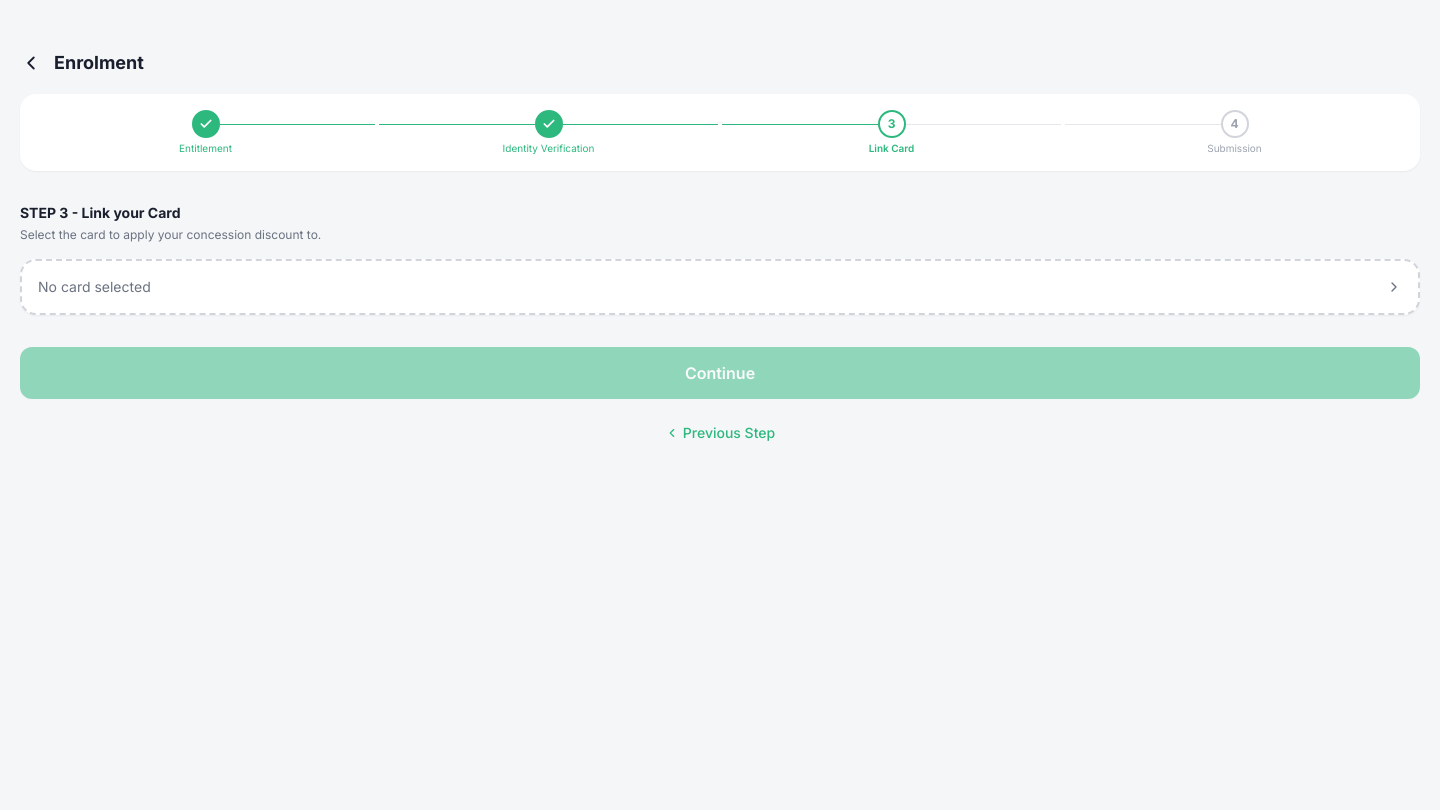
Scenario: EnrolmentStep3Page › completing "Add a new card" form and confirming closes modal and shows card as selected
The width and height of the screenshot is (1440, 810).
Click the button with aria-label "select card" at [94, 286], box [20,258,1420,314]
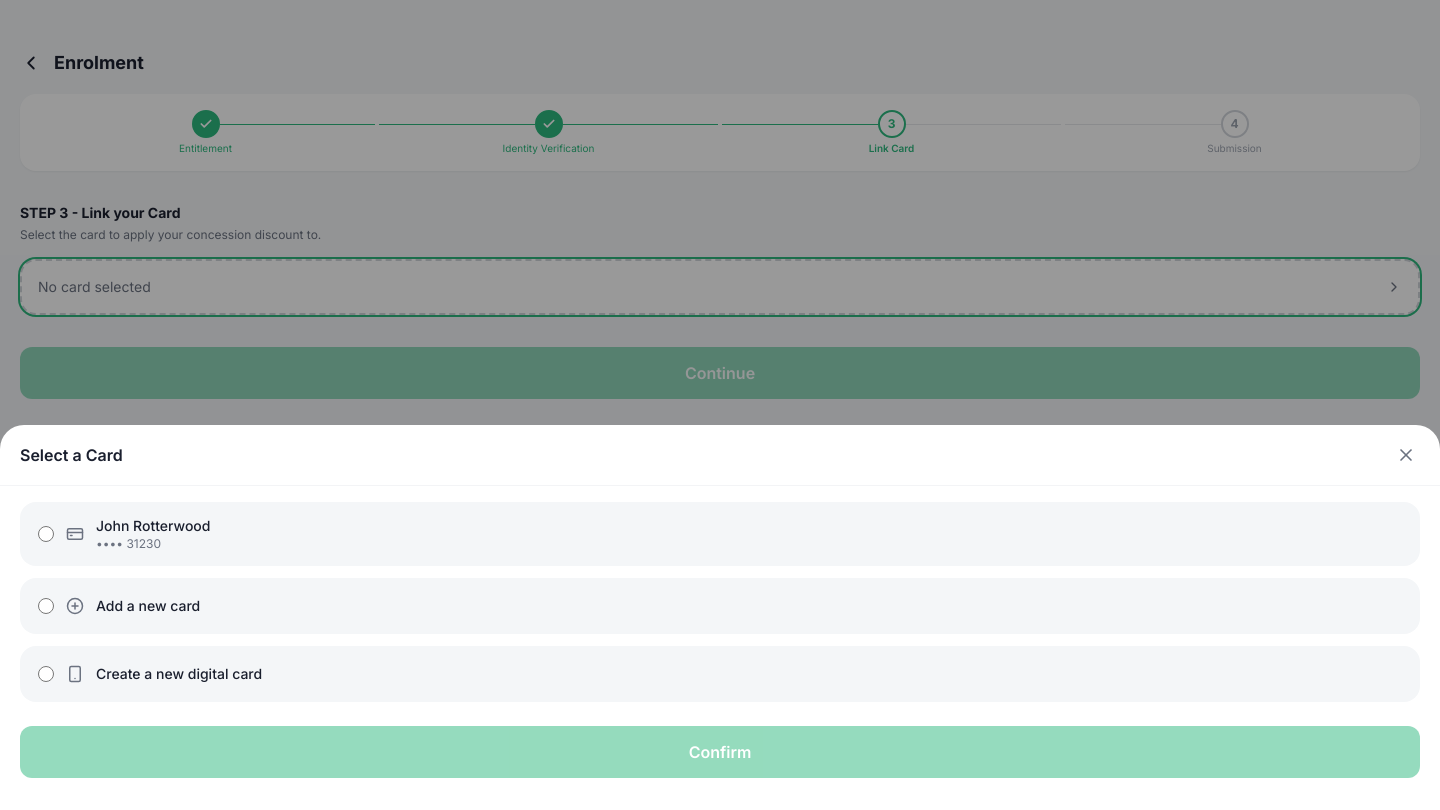
Click the radio button labelled "Add a new card" at [46, 606], box [38,598,54,614]
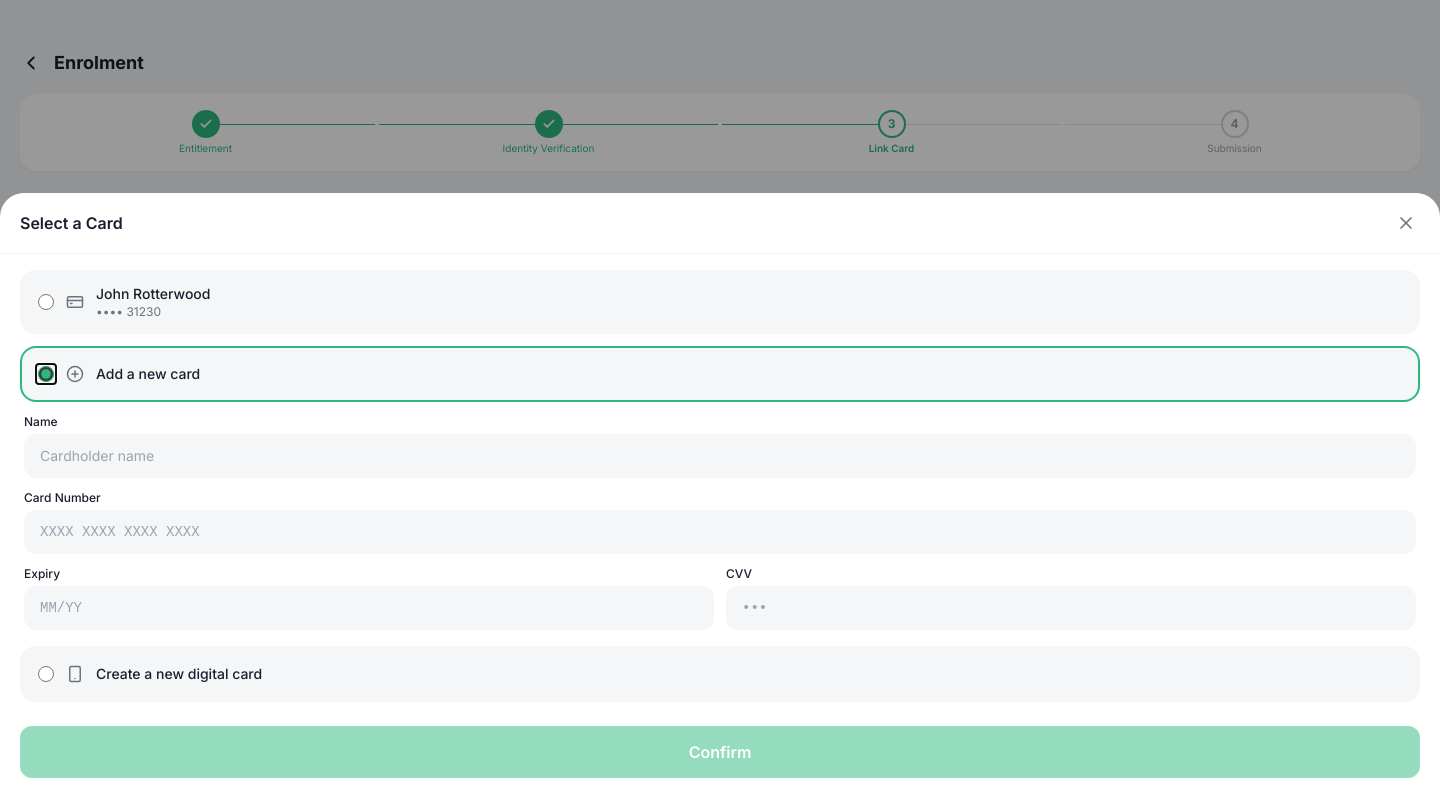
Type "Jane Smith" into the field labelled "Name" at [720, 456], box [24,434,1416,478]
Type "4111111111111111" into the field labelled "Card Number" at [720, 532], box [24,510,1416,554]
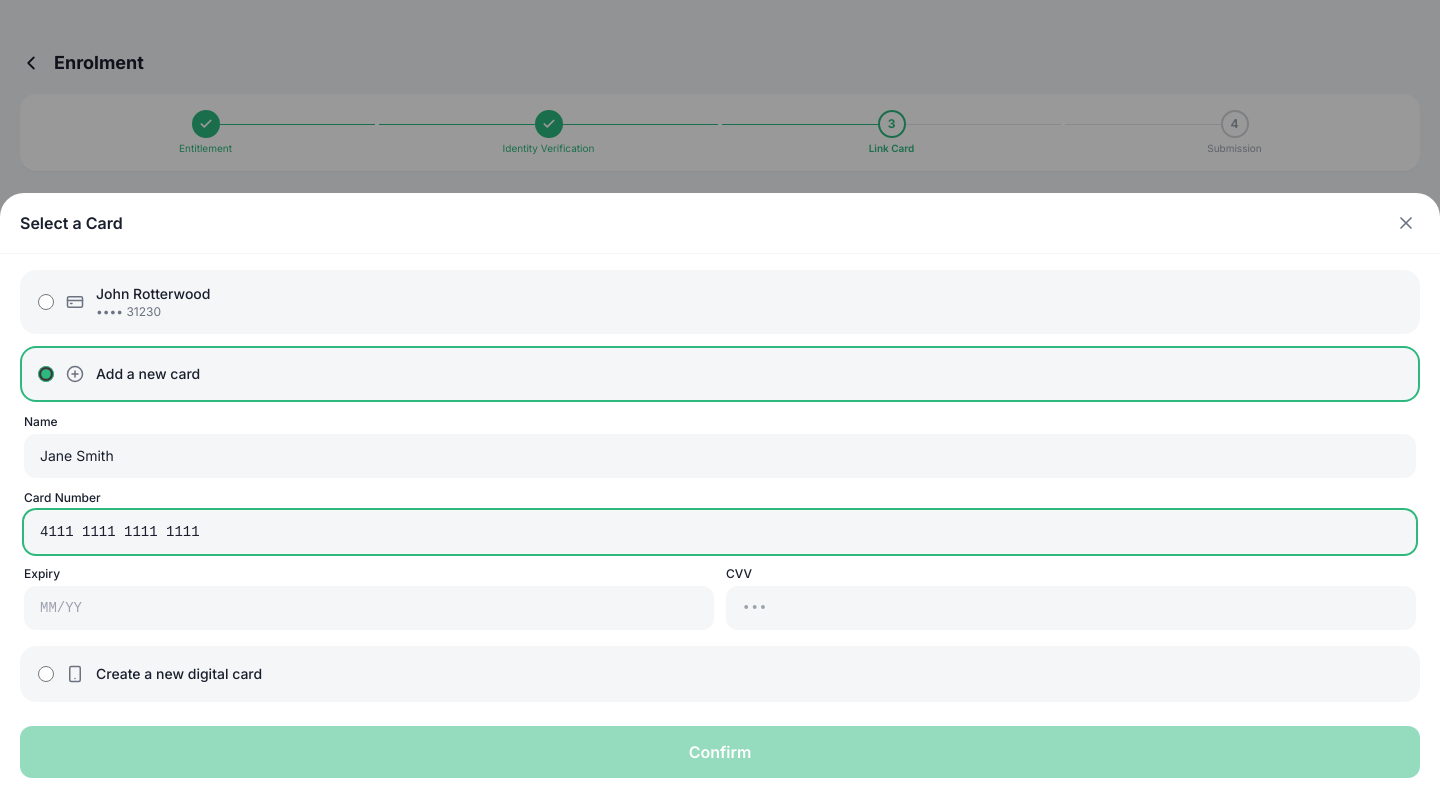
Type "1228" into the field labelled "Expiry" at [369, 608], box [24,586,714,630]
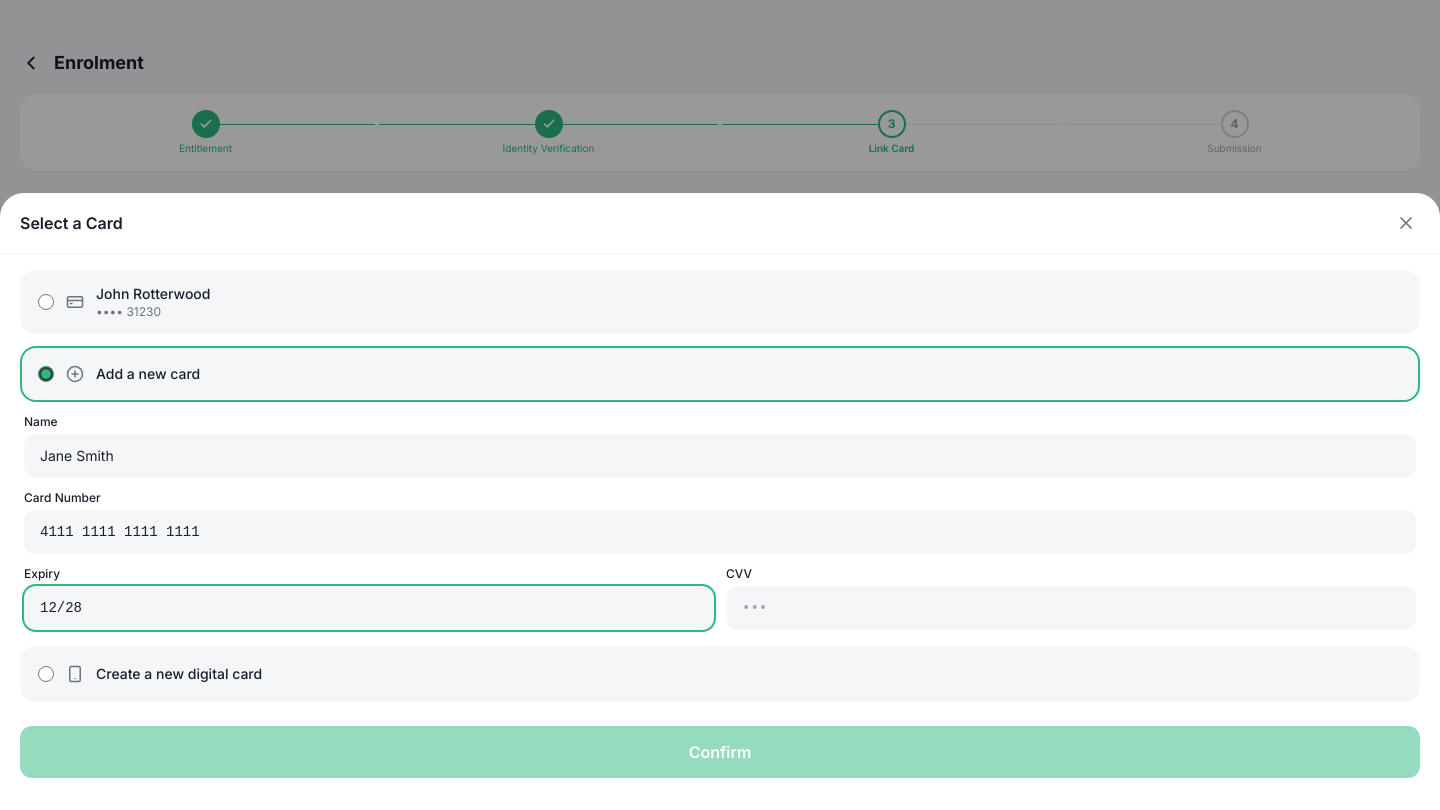
Type "123" into the field labelled "CVV" at [1071, 608], box [726,586,1416,630]
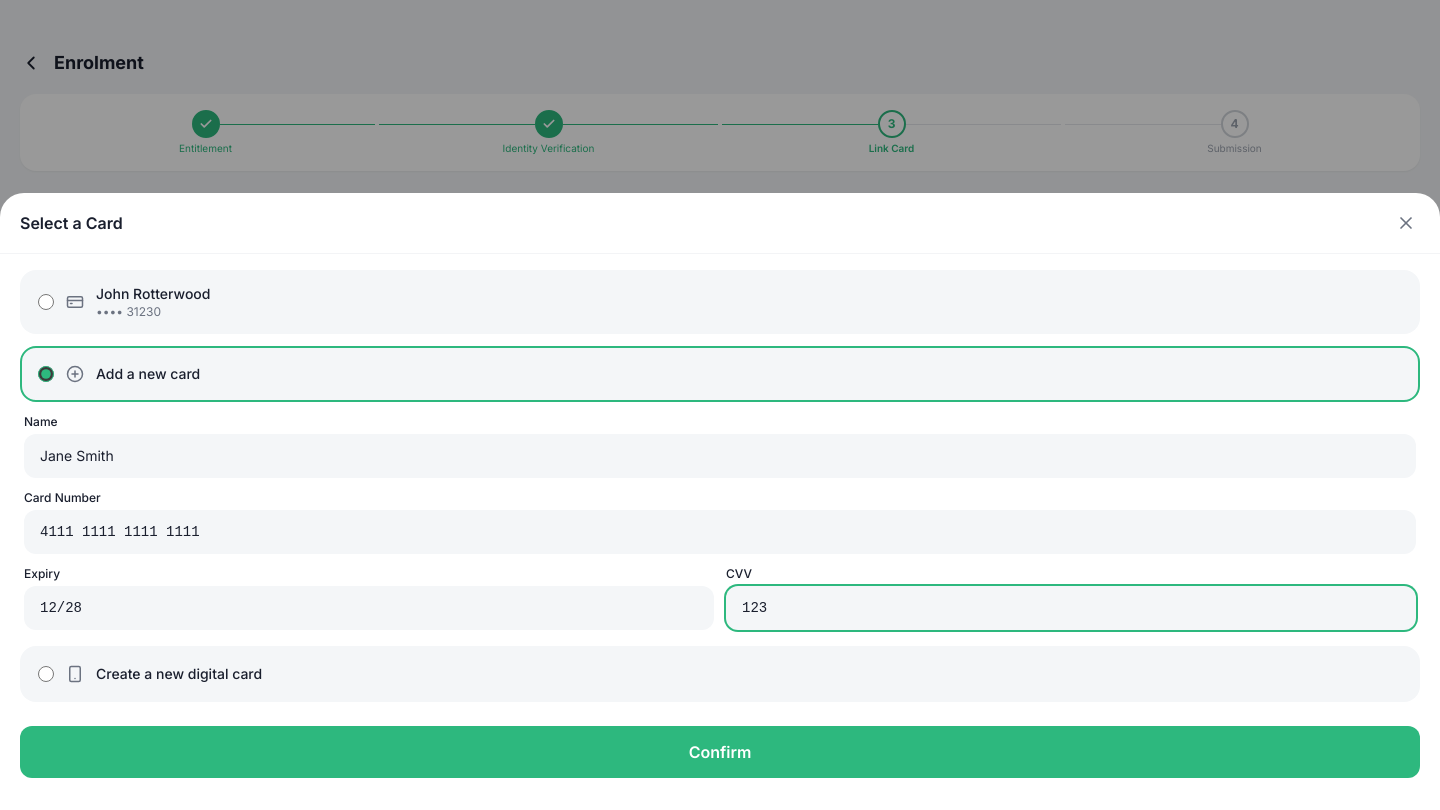
Click the button "Confirm" at [720, 752], box [20,726,1420,778]
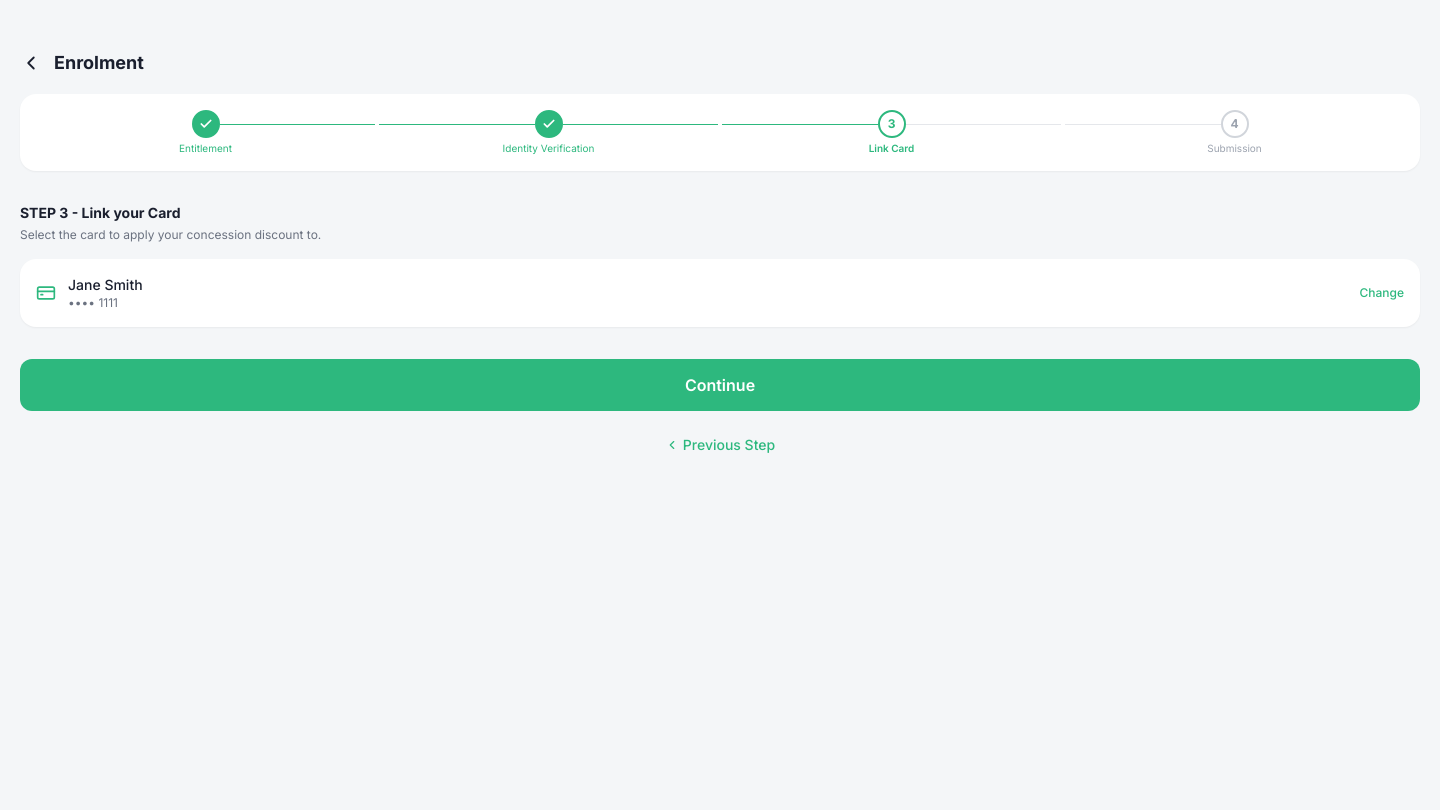
Expected: the heading "Select a Card" is gone
Expected: the text "Jane Smith" is shown, [68,274,143,294]
Expected: the text "•••• 1111" is shown, [68,294,118,310]
